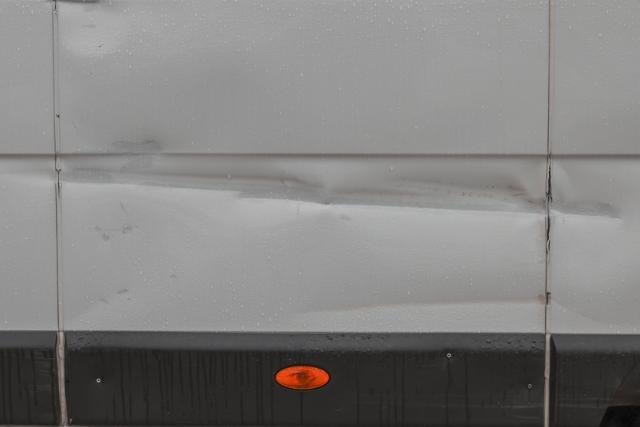Door: (61, 87, 548, 314)
Fender: (549, 172, 617, 243)
